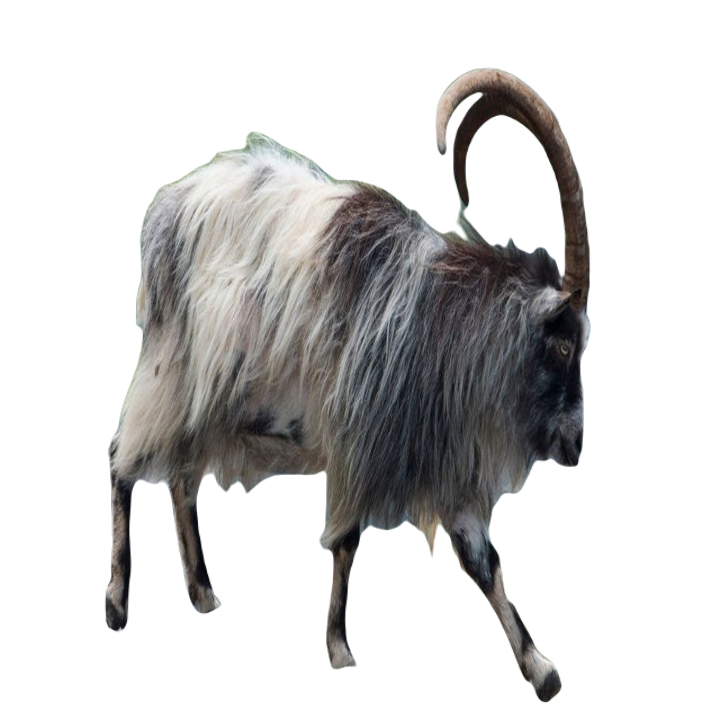Goat: (97, 70, 593, 699)
